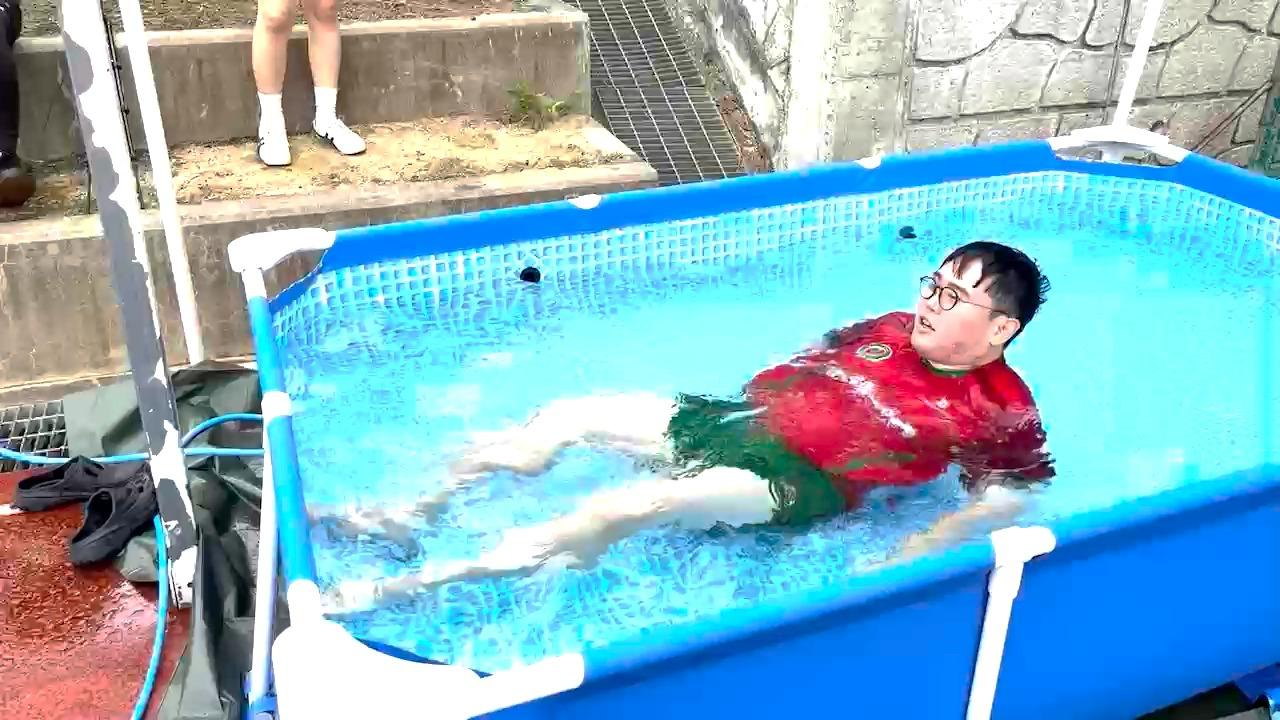Swimming: (363, 186, 1088, 637)
